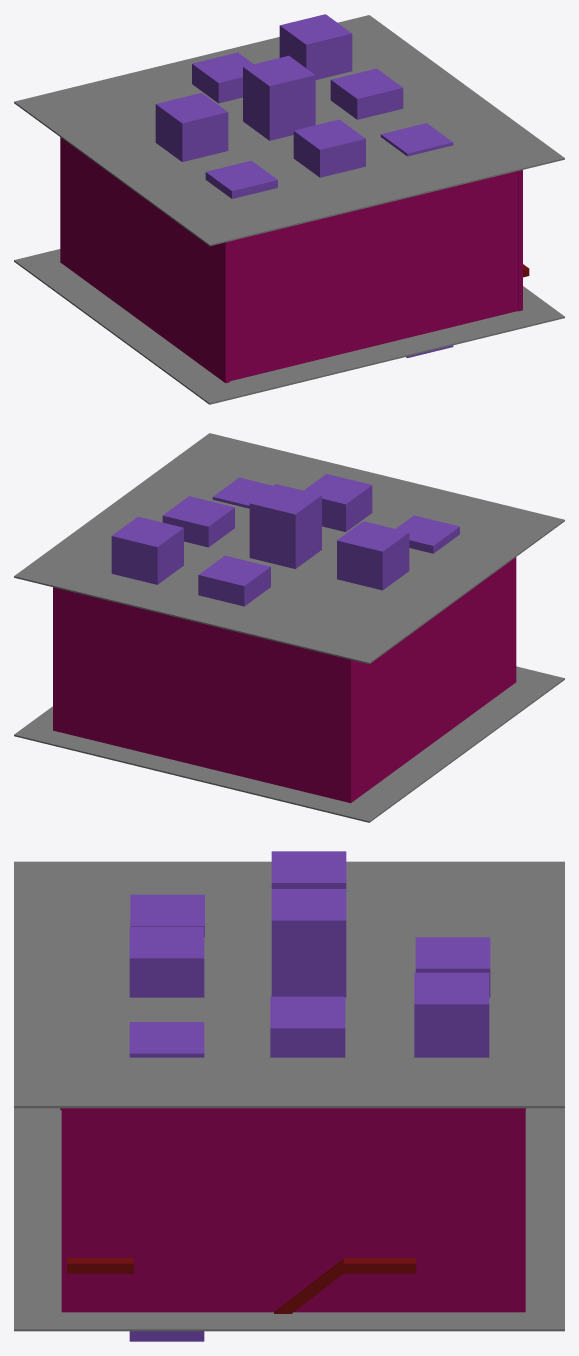
File: containment.fbx
3 views of the same model, one above another, from view 1: azimuth 30°, elevation 25°; view 2: azimuth 150°, elevation 25°; view 3: azimuth 270°, elevation 25° (orthographic). The views are drawn at different scales.
Visible parts, largest first — view 1: ground_floor__1_, int_wall_1, int_wall_1__1_, ground_floor, spawn_platform__15_, spawn_platform__17_, spawn_platform__4_, spawn_platform__13_, spawn_platform__11_, spawn_platform__16_, spawn_platform__14_, spawn_platform__12_ (+1 smaller); view 2: ground_floor__1_, Wall_1, int_wall_1__1_, ground_floor, spawn_platform__15_, spawn_platform__17_, spawn_platform__4_, spawn_platform__16_, spawn_platform__13_, spawn_platform__11_, spawn_platform__14_, spawn_platform__12_; view 3: ground_floor__1_, int_wall_1__2_, ground_floor, spawn_platform__15_, spawn_platform__4_, spawn_platform__13_, spawn_platform__11_, spawn_platform__17_, spawn_platform__16_, spawn_platform__12_, spawn_platform__14_, Wall_1 (+4 smaller).
Boxes of the visible parts, x1,y1,x2,y2 form: ground_floor__1_: (14,15,564,246); int_wall_1: (230,171,518,381); int_wall_1__1_: (60,137,229,383); ground_floor: (14,249,564,404); spawn_platform__15_: (243,55,315,140); spawn_platform__17_: (155,93,228,161); spawn_platform__4_: (279,14,352,79); spawn_platform__13_: (293,119,365,177); spawn_platform__11_: (330,68,403,119); spawn_platform__16_: (192,52,253,103); spawn_platform__14_: (205,160,277,198); spawn_platform__12_: (380,123,453,156); ground_floor__1_: (14,433,564,664); Wall_1: (53,587,346,801); int_wall_1__1_: (346,557,516,803); ground_floor: (14,666,564,822); spawn_platform__15_: (249,484,321,568); spawn_platform__17_: (337,521,409,590); spawn_platform__4_: (111,516,183,584); spawn_platform__16_: (198,555,270,606); spawn_platform__13_: (304,474,372,531); spawn_platform__11_: (162,496,234,547); spawn_platform__14_: (396,515,459,553); spawn_platform__12_: (212,477,272,508); ground_floor__1_: (14,861,564,1108); int_wall_1__2_: (61,1108,518,1312); ground_floor: (14,1108,564,1331); spawn_platform__15_: (271,889,346,997); spawn_platform__4_: (414,972,489,1057); spawn_platform__13_: (129,926,204,997); spawn_platform__11_: (270,996,345,1057); spawn_platform__17_: (271,851,346,888); spawn_platform__16_: (415,937,490,997); spawn_platform__12_: (129,1022,204,1057); spawn_platform__14_: (130,894,204,937); Wall_1: (518,1108,525,1312).
Size of the model in its own units: 8120 by 5596 by 7740.
